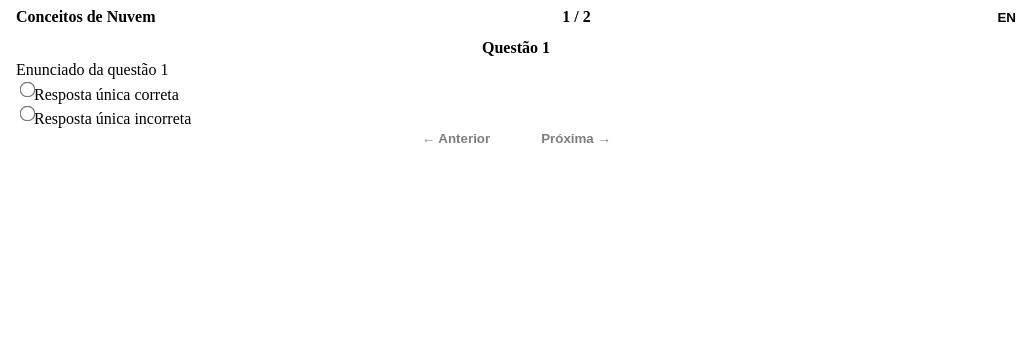
na sessão por domínio, permite múltiplas seleções e confirma a resposta antes de pontuar
This screenshot has width=1032, height=349.
Click the text "Resposta única correta" at (106, 94), box [34, 86, 179, 103]
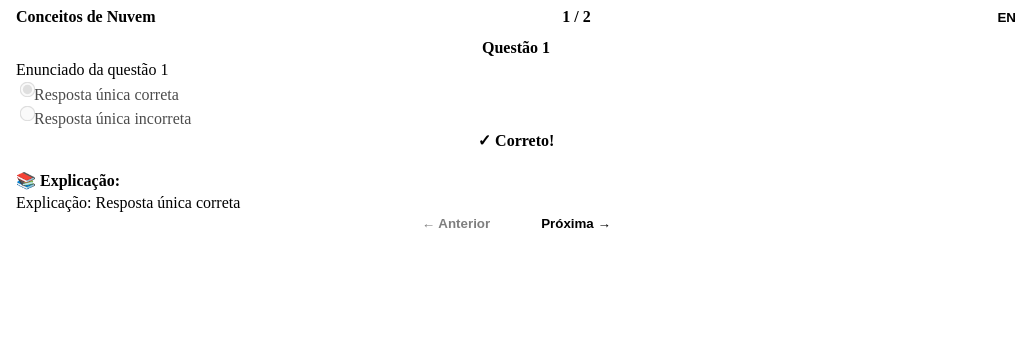
Click the button "Próxima →" at (576, 223), box [516, 216, 636, 231]
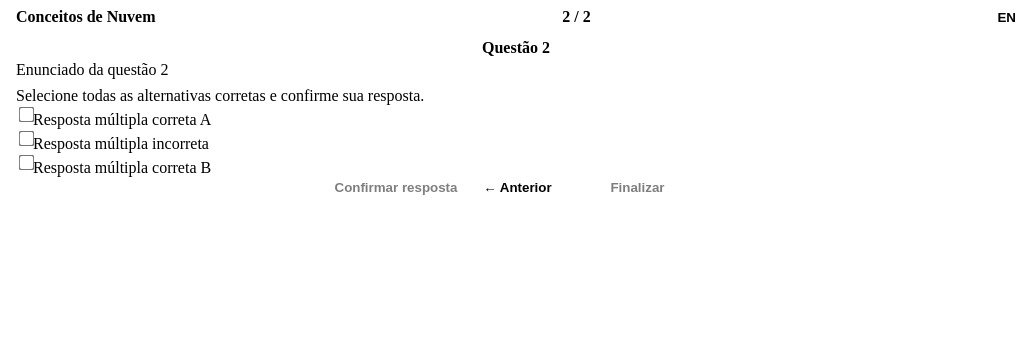
Expected: the text "Enunciado da questão 2" is shown, [16, 61, 168, 78]
Expected: the number of checkboxes is 3
Expected: the button "Finalizar" is disabled, [578, 180, 698, 196]
Click the checkbox labelled "Resposta múltipla correta A" at (26, 115), box [19, 107, 34, 123]
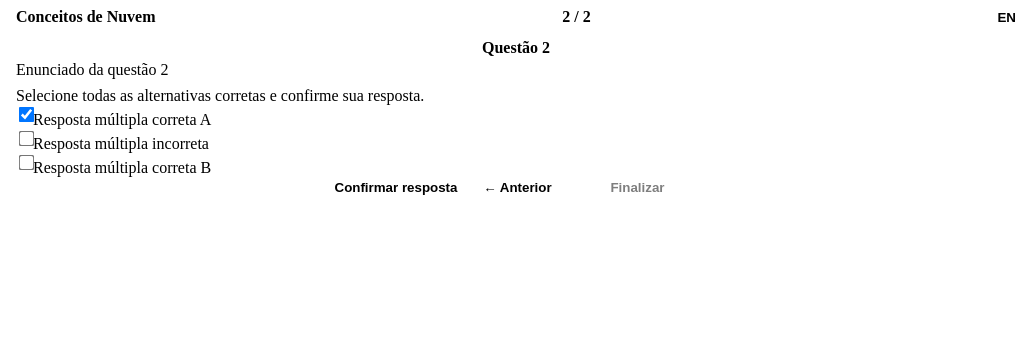
Click the checkbox labelled "Resposta múltipla correta B" at (26, 163), box [19, 155, 34, 171]
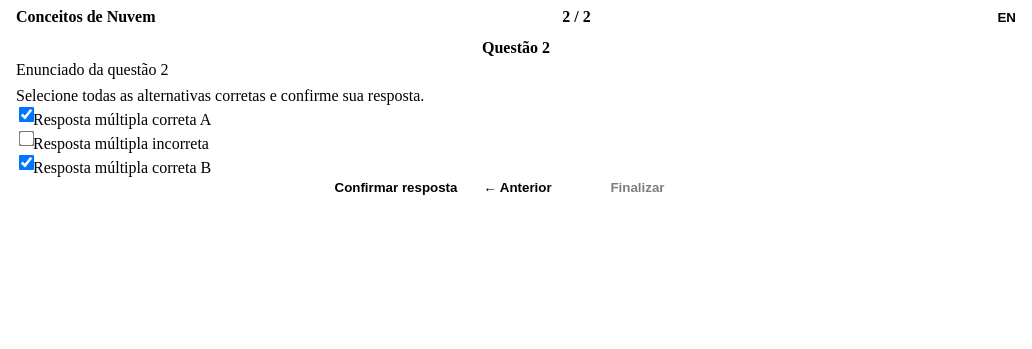
Expected: the button "Finalizar" is disabled, [578, 180, 698, 196]
Click the button "Confirmar resposta" at (396, 188), box [334, 180, 458, 196]
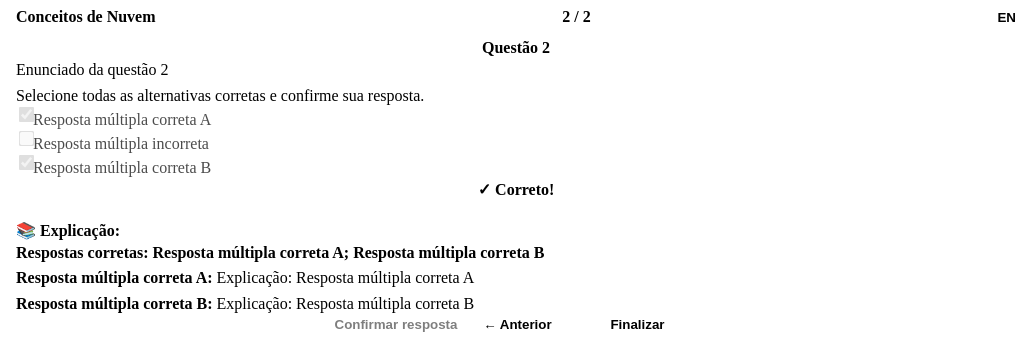
Expected: the text "✓ Correto!" is shown, [478, 182, 554, 198]
Expected: the text "Respostas corretas:" shows "Resposta múltipla correta A; Resposta múltipla correta B", [153, 244, 544, 261]
Click the button "Finalizar" at (638, 324), box [578, 316, 698, 332]
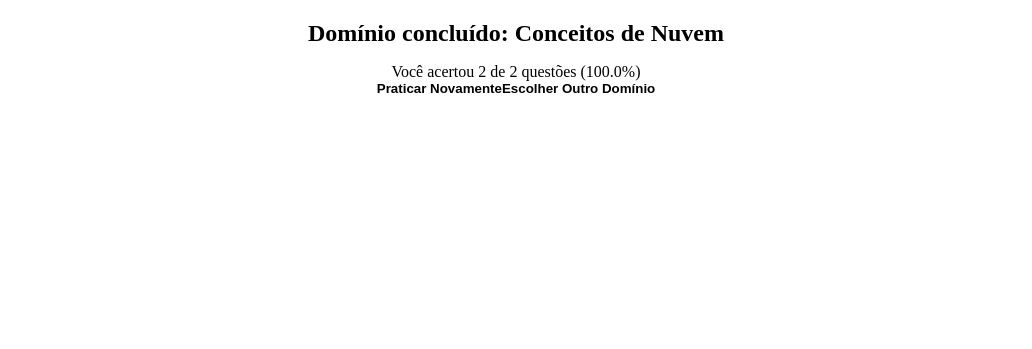
Expected: the text "Você acertou 2 de 2 questões (100.0%)" is shown, [392, 63, 640, 80]
